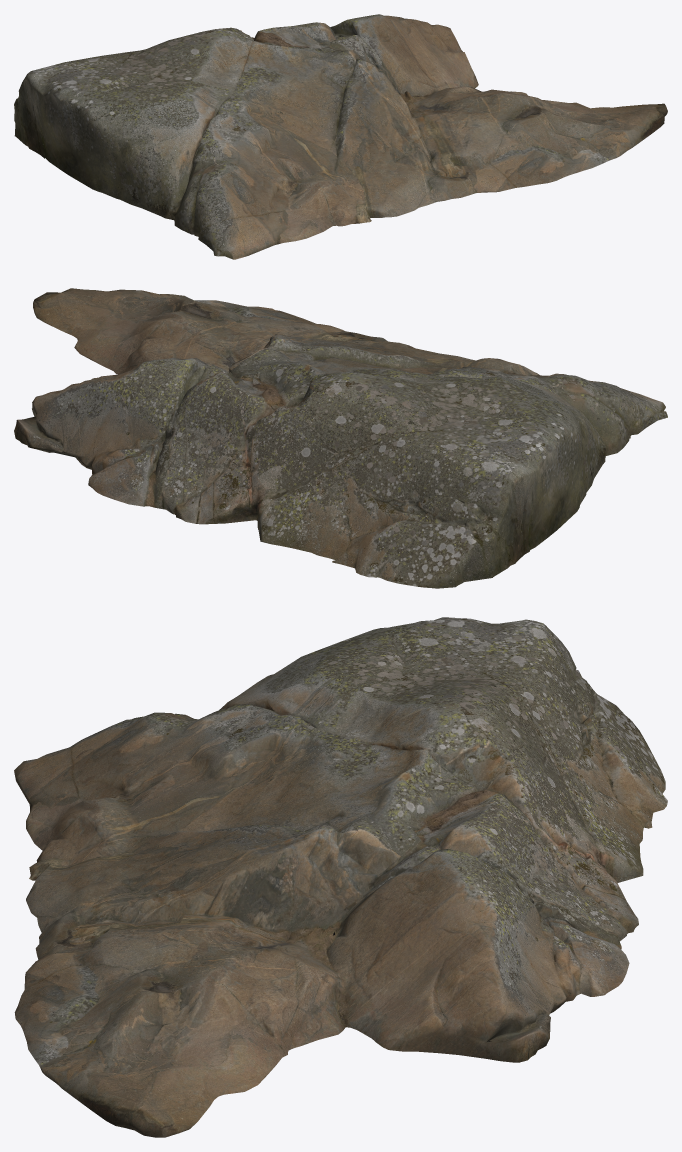
The model's file is SM_zclidix_tier_2.gltf.
3 renders of one model, top to bottom at view 1: azimuth 30°, elevation 25°; view 2: azimuth 150°, elevation 25°; view 3: azimuth 270°, elevation 25°, orthographic. The views are drawn at different scales.
Parts seen in each view (by area): view 1: zclidix_LOD2_TIER2_000; view 2: zclidix_LOD2_TIER2_000; view 3: zclidix_LOD2_TIER2_000.
Part boxes in pixels (x1,y1,x2,y2): zclidix_LOD2_TIER2_000: [14, 14, 667, 259]; zclidix_LOD2_TIER2_000: [14, 288, 667, 588]; zclidix_LOD2_TIER2_000: [14, 617, 667, 1137].
Bounding box in the file's own units: 7.89 × 1.38 × 5.41.
Materials: 1 (1 with a texture image).
